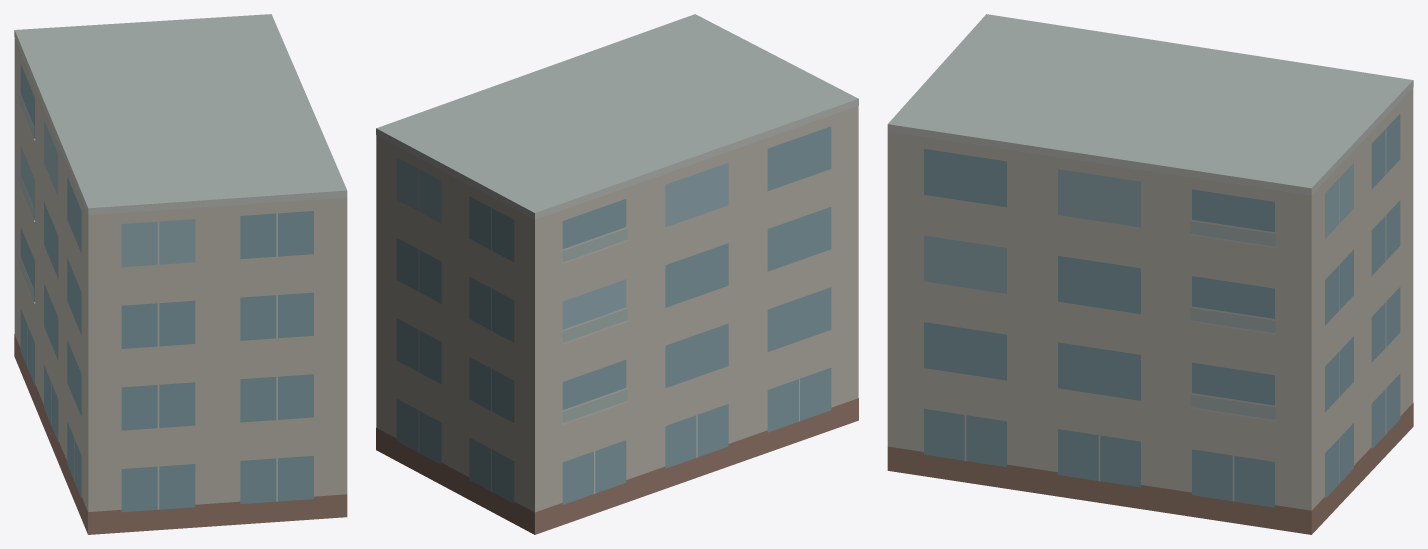
File: survey-upis-32539105.glb
3 views of the same model, side by side, from view 1: azimuth 30°, elevation 25°; view 2: azimuth 150°, elevation 25°; view 3: azimuth 270°, elevation 25° (orthographic). The views are drawn at different scales.
Parts seen in each view (by area): view 1: survey-upis-32539105.tmp; view 2: survey-upis-32539105.tmp; view 3: survey-upis-32539105.tmp.
Boxes of the visible parts, x1=… form: survey-upis-32539105.tmp: x1=14, y1=14, x2=347, y2=534; survey-upis-32539105.tmp: x1=376, y1=14, x2=858, y2=534; survey-upis-32539105.tmp: x1=887, y1=14, x2=1413, y2=534.
Bounding box in the file's own units: 12.41 × 11.5 × 15.82.
